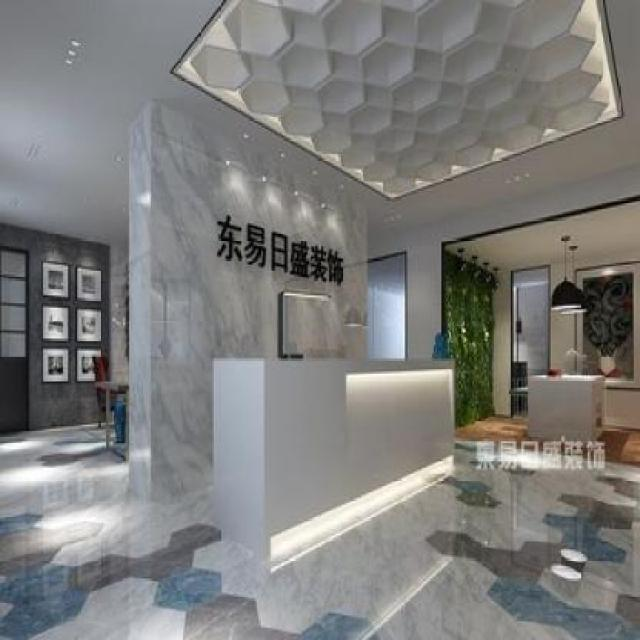frontdesk: (197, 346, 466, 571)
